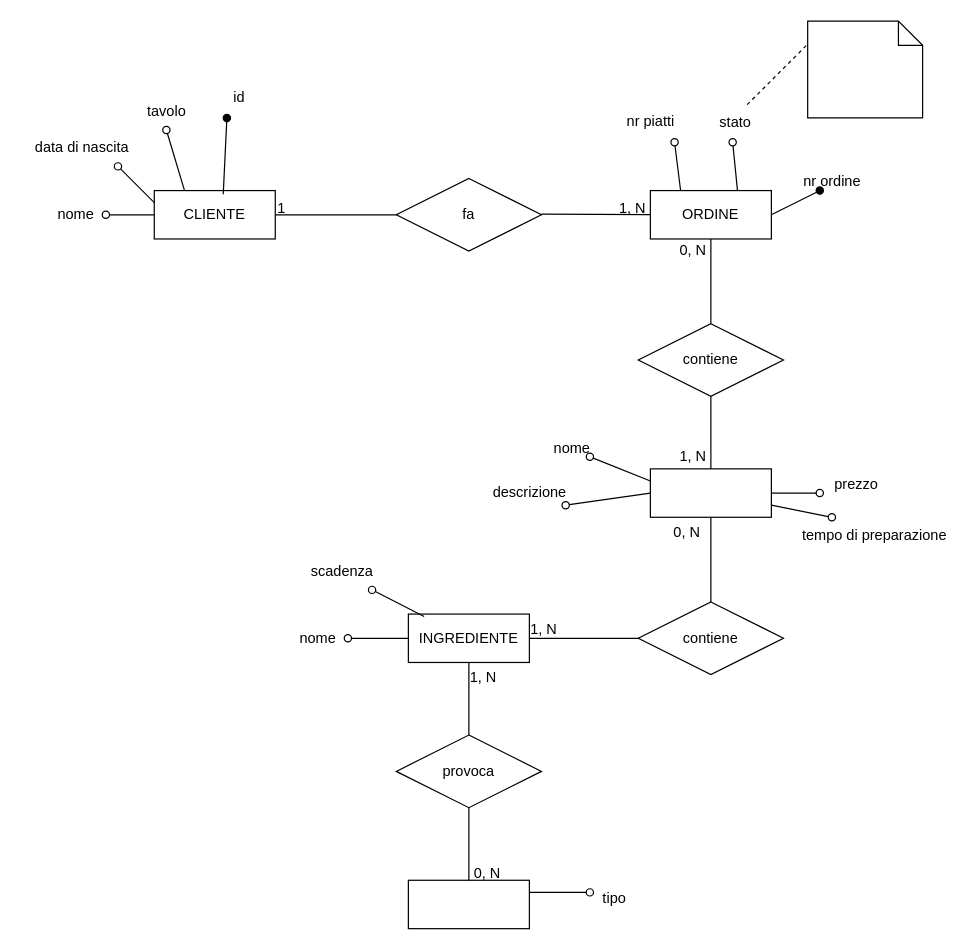
Some shapes in this 979 by 950 pixel diagram are drawn without their labels. Each missing label, with the centre of its shape:
In lavorazione, Pronto, Servito: [864,69]
INTOLLERANZA: [468,904]
PIATTO: [710,492]
